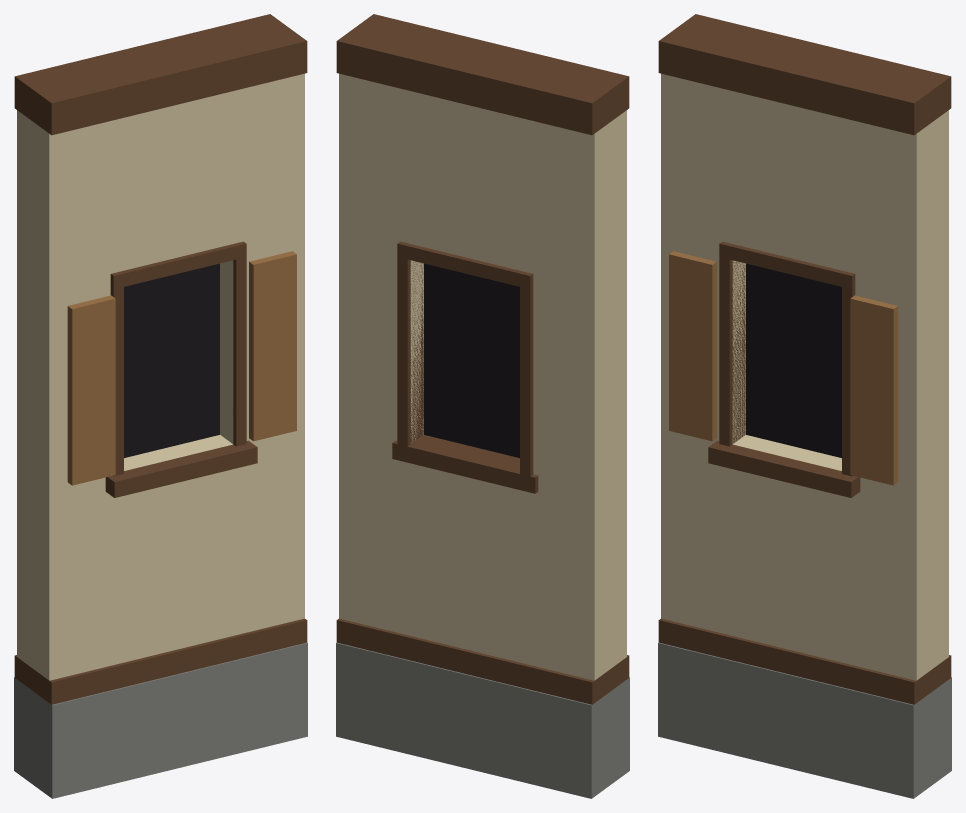
The model's file is WallShuttered.fbx.
3 views of the same model, side by side, from view 1: azimuth 30°, elevation 25°; view 2: azimuth 150°, elevation 25°; view 3: azimuth 330°, elevation 25° (orthographic).
Parts seen in each view (by area): view 1: WallShuttered; view 2: WallShuttered; view 3: WallShuttered.
Part boxes in pixels (x1,y1,x2,y2): WallShuttered: (14, 14, 307, 798); WallShuttered: (336, 14, 629, 798); WallShuttered: (658, 14, 951, 798).
Size of the model in its own units: 1 by 2.6 by 0.3.
